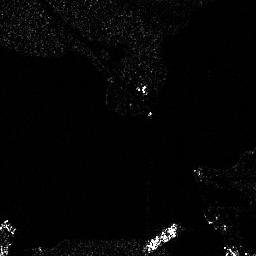ship: (1, 218, 12, 256)
